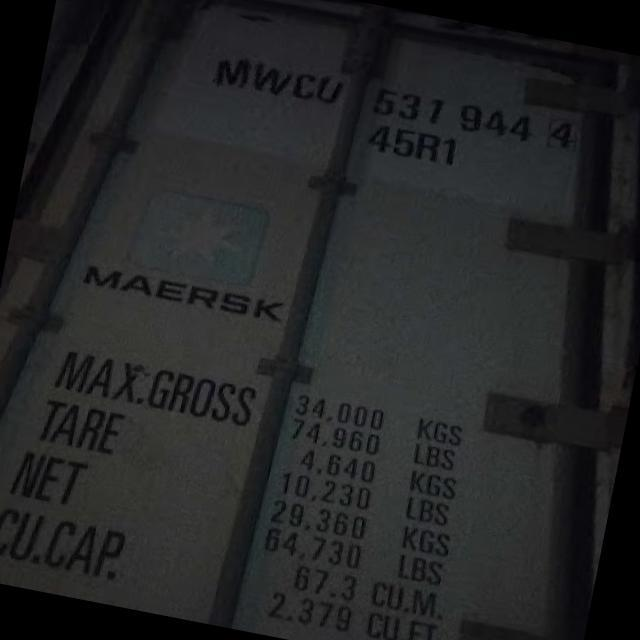ISO: (368, 120, 456, 182)
container_number: (210, 44, 582, 162)
